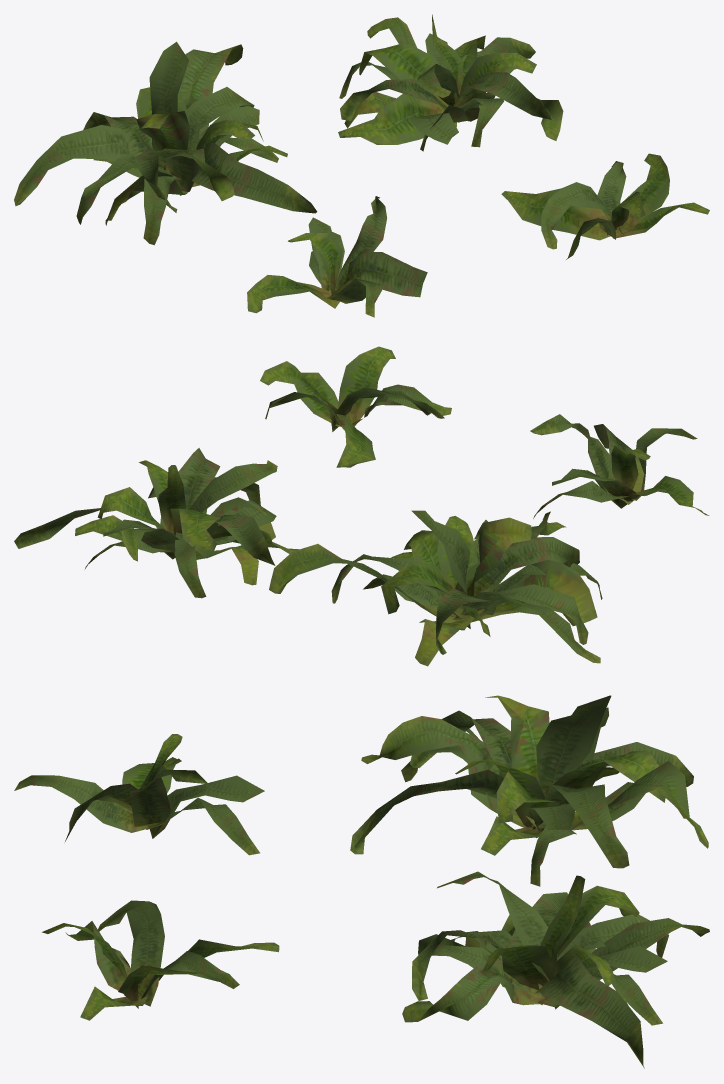
The model's file is fern_02.glb.
3 renders of one model, top to bottom at view 1: azimuth 30°, elevation 25°; view 2: azimuth 150°, elevation 25°; view 3: azimuth 270°, elevation 25°, orthographic. The views are drawn at different scales.
Visible parts, largest first — view 1: lod0; view 2: lod0; view 3: lod0.
Boxes of the visible parts, <box> form: lod0: <box>14,14,709,317</box>; lod0: <box>14,346,709,666</box>; lod0: <box>14,695,709,1068</box>.
Size of what is drawn, in the model's own units: 8.77 by 1.93 by 7.67.
Materials: 1 (1 with a texture image).
